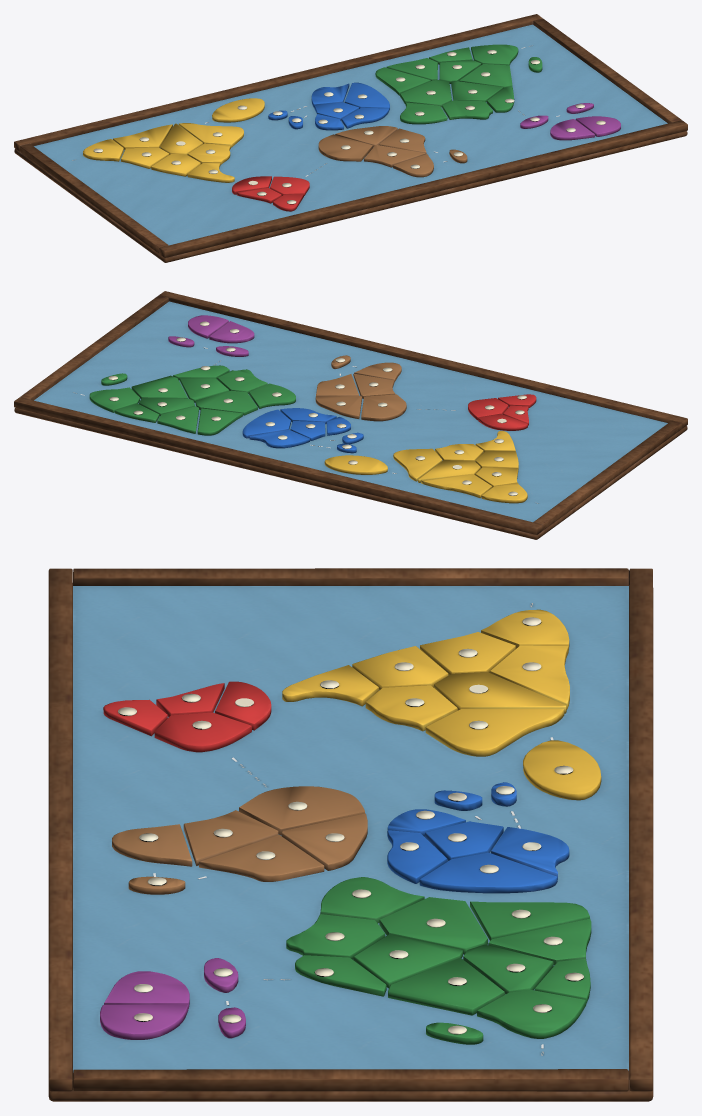
3 renders of one model, top to bottom at view 1: azimuth 30°, elevation 25°; view 2: azimuth 150°, elevation 25°; view 3: azimuth 270°, elevation 25°, orthographic. The views are drawn at different scales.
Visible parts, largest first — view 1: Ocean, FrameRail_S, FrameRail_N, Board, FrameRail_W, FrameRail_E, Territory_NorthAfrica, Territory_Quebec, Territory_Afghanistan, Territory_Greenland, Territory_Mongolia, Territory_Kamchatka (+29 smaller); view 2: Ocean, FrameRail_N, FrameRail_S, Board, FrameRail_W, FrameRail_E, Territory_NorthAfrica, Territory_Afghanistan, Territory_Quebec, Territory_Greenland, Territory_NorthwestTerritory, Territory_Mongolia (+27 smaller); view 3: Ocean, FrameRail_S, FrameRail_E, FrameRail_N, FrameRail_W, Board, Territory_Quebec, Territory_Mongolia, Territory_Ukraine, Territory_NorthAfrica, Territory_Afghanistan, Territory_Kamchatka (+34 smaller).
Part boxes in pixels (x1,y1,x2,y2): Ocean: [34, 24, 667, 245]; FrameRail_S: [159, 120, 687, 257]; FrameRail_N: [14, 14, 542, 151]; Board: [14, 131, 687, 262]; FrameRail_W: [20, 143, 168, 253]; FrameRail_E: [533, 18, 681, 123]; Territory_NorthAfrica: [318, 134, 372, 161]; Territory_Quebec: [178, 123, 243, 147]; Territory_Afghanistan: [400, 80, 451, 107]; Territory_Greenland: [212, 98, 264, 122]; Territory_Mongolia: [459, 64, 512, 88]; Territory_Kamchatka: [471, 44, 518, 65]; Ocean: [34, 301, 667, 522]; FrameRail_N: [14, 397, 542, 534]; FrameRail_S: [159, 291, 687, 428]; Board: [14, 408, 687, 539]; FrameRail_W: [533, 420, 681, 530]; FrameRail_E: [20, 295, 168, 400]; Territory_NorthAfrica: [361, 394, 406, 421]; Territory_Afghanistan: [195, 390, 257, 415]; Territory_Quebec: [393, 448, 442, 481]; Territory_Greenland: [324, 455, 387, 474]; Territory_NorthwestTerritory: [421, 474, 492, 497]; Territory_Mongolia: [131, 375, 187, 398]; Ocean: [73, 586, 628, 1072]; FrameRail_S: [48, 568, 72, 1091]; FrameRail_E: [73, 1069, 628, 1091]; FrameRail_N: [629, 568, 652, 1091]; FrameRail_W: [73, 568, 628, 585]; Board: [48, 583, 653, 1101]; Territory_Quebec: [425, 709, 564, 756]; Territory_Mongolia: [388, 957, 504, 1015]; Territory_Ukraine: [419, 852, 557, 893]; Territory_NorthAfrica: [239, 786, 364, 835]; Territory_Afghanistan: [379, 897, 487, 954]; Territory_Kamchatka: [477, 990, 586, 1038].
Bounding box in the file's own units: 2 × 0.0445 × 1.
Materials: 1 (1 with a texture image).
